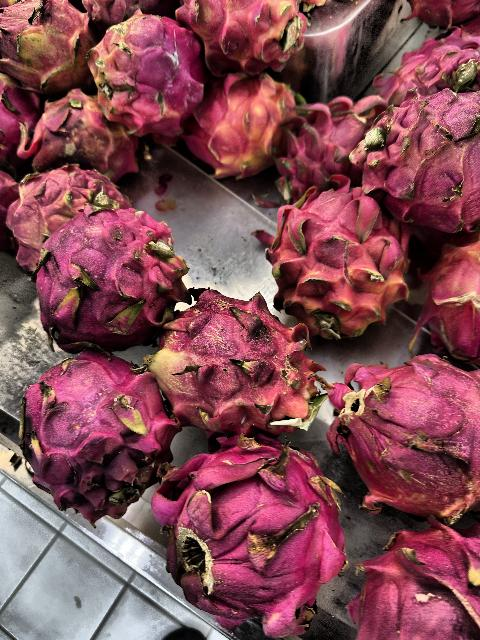buah-naga-belum-matang: (157, 295, 319, 439), (267, 184, 403, 338), (82, 17, 190, 133), (194, 78, 286, 172), (4, 0, 92, 90)
buah-naga-matang: (144, 436, 349, 636), (326, 350, 480, 522), (15, 349, 164, 516), (38, 204, 184, 350), (348, 520, 480, 640), (362, 95, 480, 225), (179, 0, 304, 70), (275, 100, 371, 190), (13, 165, 129, 235), (416, 235, 480, 359), (34, 98, 130, 176), (390, 36, 480, 116), (0, 74, 40, 160)
